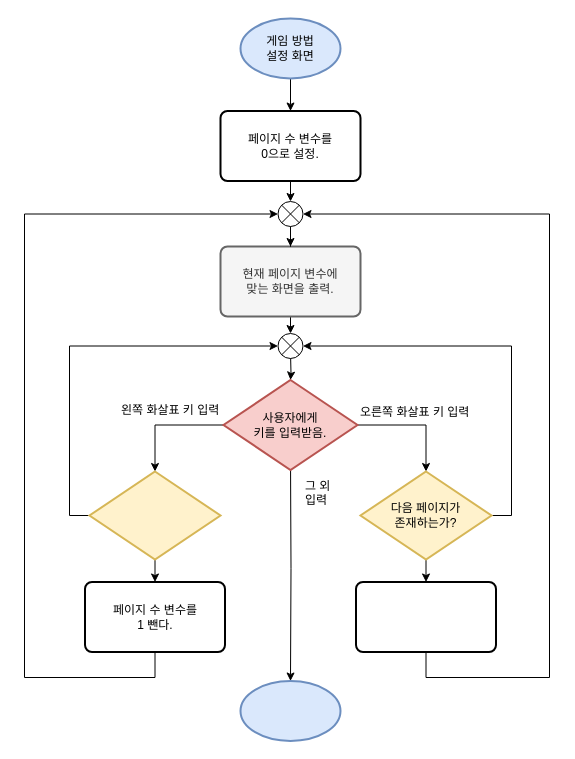
Image size: 575x759. Some labels were removed from this diagram. Each missing label, with the centre of its shape:
"전 페이지가 존재하는가?" belongs at (x=154, y=515).
"초기 화면으로 돌아감." belongs at (x=290, y=711).
"페이지 수 변수를 1 더한다." belongs at (x=425, y=616).
